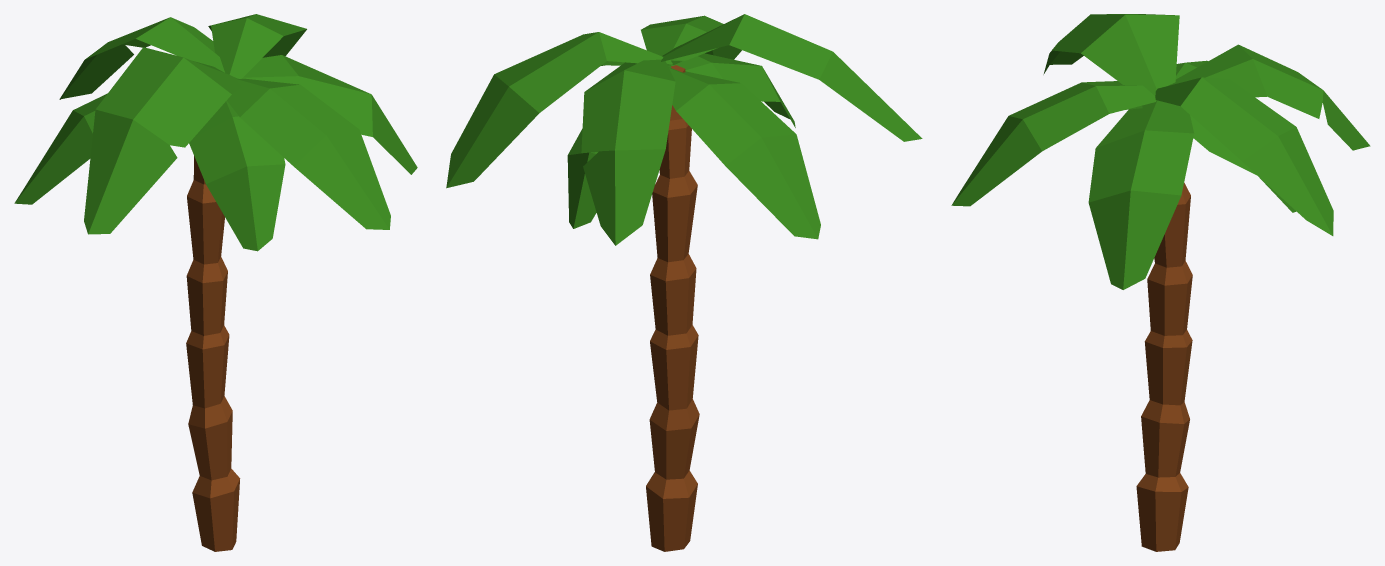
File: PalmTree1_oneside.fbx
3 views of the same model, side by side, from view 1: azimuth 30°, elevation 25°; view 2: azimuth 150°, elevation 25°; view 3: azimuth 270°, elevation 25° (orthographic). The views are drawn at different scales.
Visible parts, largest first — view 1: PalmTree1_oneside; view 2: PalmTree1_oneside; view 3: PalmTree1_oneside.
Boxes of the visible parts, box(x1,y1,x2,y2) form: PalmTree1_oneside: box(14, 14, 417, 551); PalmTree1_oneside: box(446, 14, 922, 551); PalmTree1_oneside: box(951, 14, 1370, 551).
Bounding box in the file's own units: 3.16 × 4.21 × 3.17.
